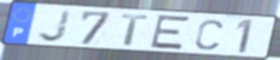1: (234, 18, 254, 55)
7: (79, 9, 114, 46)
C: (193, 18, 226, 52)
E: (148, 14, 193, 51)
J: (36, 9, 73, 43)
T: (120, 14, 150, 47)
